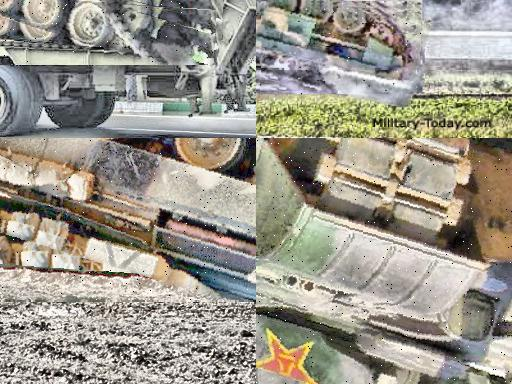tanks: (257, 139, 512, 384), (1, 139, 257, 302), (257, 1, 422, 95), (1, 1, 215, 66)
